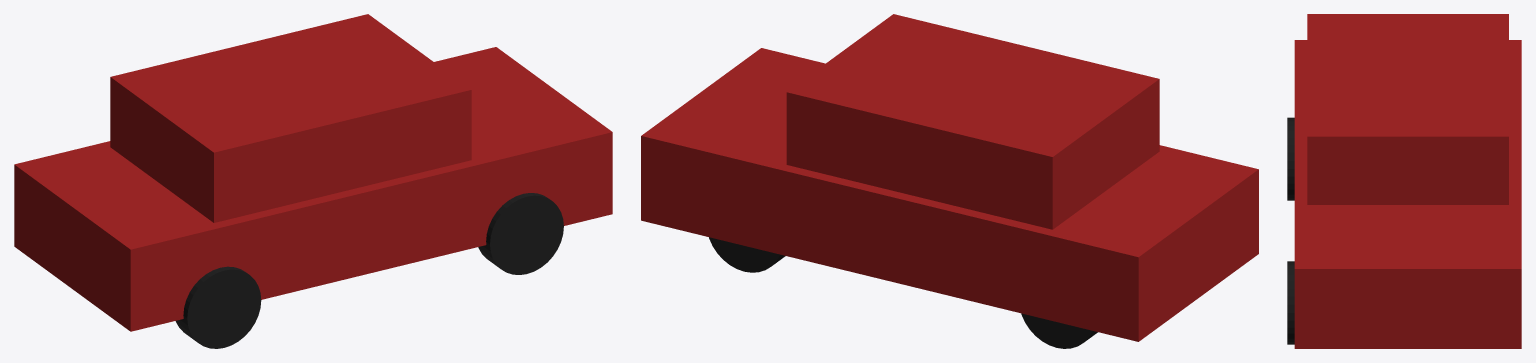
The model's file is Car.glb.
3 views of the same model, side by side, from view 1: azimuth 30°, elevation 25°; view 2: azimuth 150°, elevation 25°; view 3: azimuth 270°, elevation 25° (orthographic). The views are drawn at different scales.
Visible parts, largest first — view 1: Body, Cabin, Wheel 3, Wheel 4; view 2: Body, Cabin, Wheel 1, Wheel 2; view 3: Cabin, Body, Wheel 3, Wheel 4.
Part boxes in pixels (x1,y1,x2,y2): Body: (14, 47, 612, 331); Cabin: (110, 14, 471, 222); Wheel 3: (175, 266, 261, 348); Wheel 4: (478, 193, 563, 274); Body: (641, 48, 1258, 341); Cabin: (786, 14, 1159, 229); Wheel 1: (1021, 313, 1097, 348); Wheel 2: (709, 237, 785, 272); Cabin: (1307, 14, 1508, 204); Body: (1294, 40, 1521, 348); Wheel 3: (1287, 117, 1294, 200); Wheel 4: (1287, 261, 1294, 344).
Bounding box in the file's own units: 4.3 × 1.6 × 1.86.
